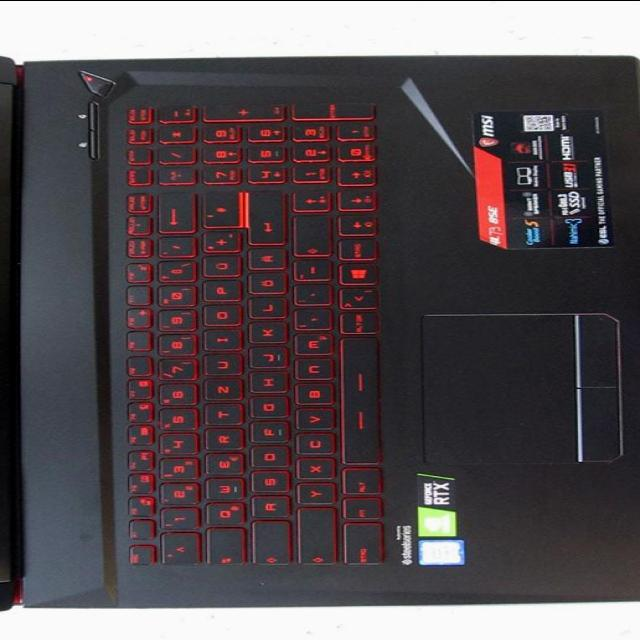0: (153, 286, 193, 308)
1: (155, 509, 195, 532)
2: (154, 485, 195, 507)
3: (158, 457, 198, 479)
4: (154, 434, 194, 456)
5: (154, 410, 194, 432)
6: (154, 385, 194, 407)
7: (153, 360, 194, 382)
8: (153, 336, 193, 358)
9: (153, 311, 193, 333)
a: (246, 497, 287, 519)
accent: (153, 238, 191, 259)
ae: (242, 250, 283, 272)
alt-left: (338, 469, 379, 496)
altgr-right: (335, 313, 375, 336)
b: (289, 384, 330, 407)
c: (290, 434, 330, 456)
caret: (156, 535, 196, 567)
comma: (289, 310, 327, 332)
d: (245, 447, 286, 469)
del: (151, 195, 191, 235)
e: (200, 454, 241, 476)
enter: (241, 194, 282, 247)
f: (245, 422, 286, 444)
g: (244, 398, 284, 420)
h: (245, 373, 283, 395)
hash: (198, 193, 236, 230)
i: (197, 330, 237, 352)
j: (243, 348, 283, 370)
k: (242, 323, 283, 345)
keyboard: (106, 91, 396, 575)
l: (243, 298, 283, 320)
less: (335, 289, 376, 311)
m: (289, 335, 329, 357)
minus: (288, 261, 328, 283)
n: (289, 360, 329, 382)
o: (197, 306, 237, 328)
oe: (243, 274, 283, 296)
p: (197, 281, 237, 303)
plus: (196, 233, 237, 255)
point: (289, 285, 327, 307)
q: (200, 504, 241, 527)
r: (200, 430, 240, 452)
s: (246, 472, 286, 494)
shift-left: (292, 509, 333, 567)
shift-lock: (247, 523, 288, 567)
shift-right: (288, 216, 328, 258)
space: (335, 338, 377, 466)
ss: (153, 262, 193, 283)
strg-left: (339, 524, 380, 568)
strg-right: (334, 240, 375, 262)
t: (199, 405, 239, 427)
tab: (201, 529, 241, 567)
u: (197, 355, 238, 377)
ue: (197, 257, 237, 279)
v: (290, 409, 330, 431)
w: (200, 480, 241, 502)
x: (290, 459, 330, 481)
y: (292, 484, 332, 506)
z: (199, 380, 240, 402)
